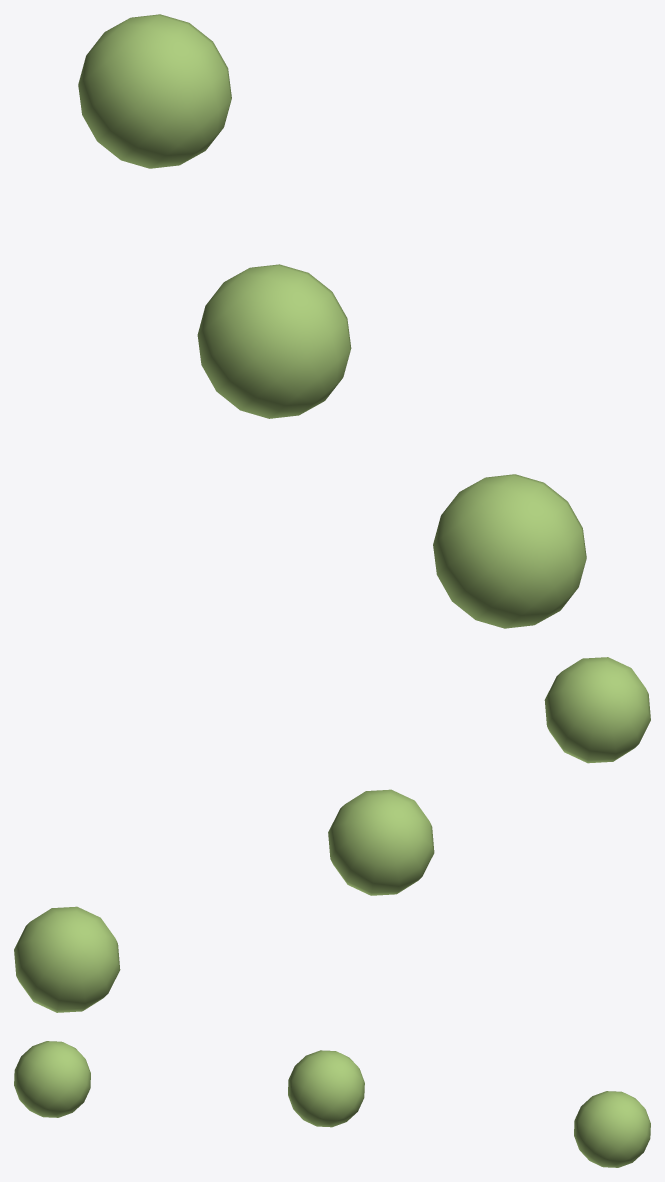
Rendered from submandibular-nodes-l.glb.
3 views of the same model, one above another, from view 1: azimuth 30°, elevation 25°; view 2: azimuth 150°, elevation 25°; view 3: azimuth 270°, elevation 25° (orthographic). The views are drawn at different scales.
Visible parts, largest first — view 1: Submandibular nodes.l; view 2: Submandibular nodes.l; view 3: Submandibular nodes.l.
Boxes of the visible parts, box(x1,y1,x2,y2) form: Submandibular nodes.l: box(78, 14, 586, 628); Submandibular nodes.l: box(14, 657, 650, 1012); Submandibular nodes.l: box(14, 1041, 650, 1167).
Bounding box in the file's own units: 0.00649 × 0.00256 × 0.0212.
